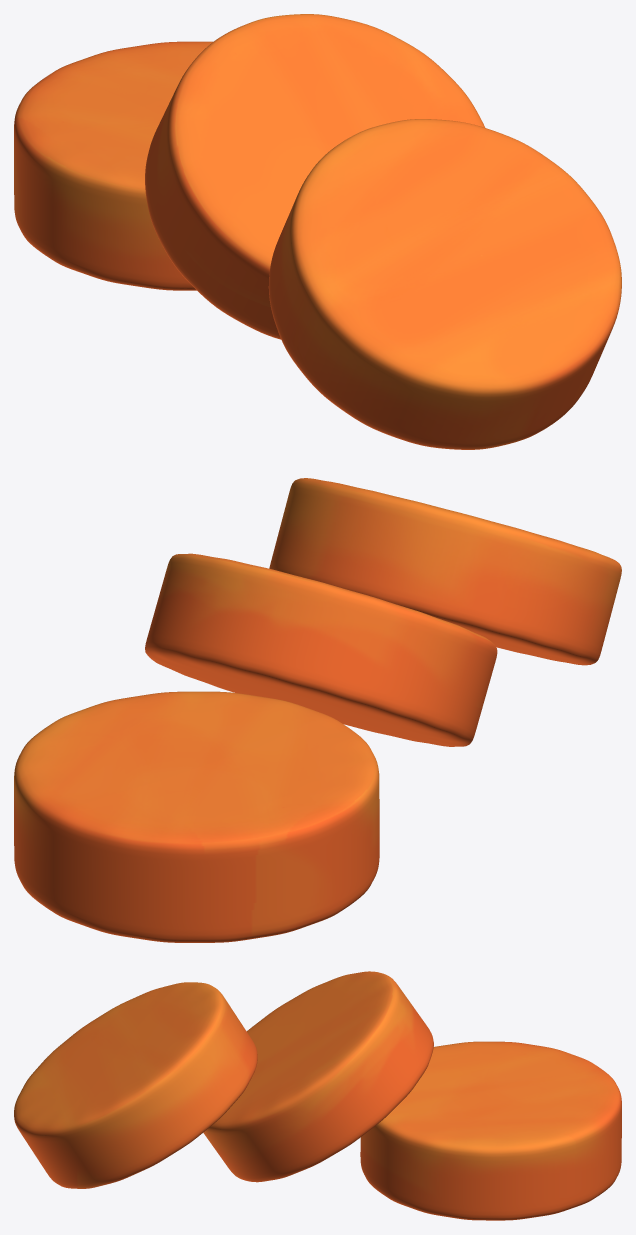
File: SM_CarrotCut.fbx
3 views of the same model, one above another, from view 1: azimuth 30°, elevation 25°; view 2: azimuth 150°, elevation 25°; view 3: azimuth 270°, elevation 25° (orthographic). The views are drawn at different scales.
Visible parts, largest first — view 1: SM_CarrotCut; view 2: SM_CarrotCut; view 3: SM_CarrotCut.
Part boxes in pixels (x1,y1,x2,y2): SM_CarrotCut: (14, 14, 621, 449); SM_CarrotCut: (14, 478, 621, 942); SM_CarrotCut: (14, 971, 621, 1220).
Size of the model in its own units: 23.88 by 18.21 by 55.59.
